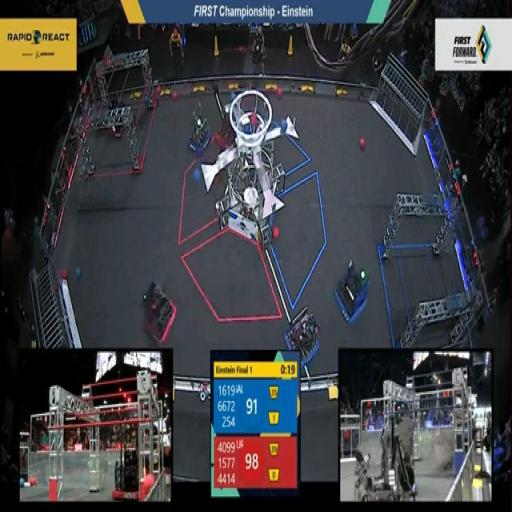robot: (330, 249, 372, 326), (282, 296, 322, 368), (141, 278, 183, 344), (185, 92, 213, 155), (106, 87, 126, 141)
